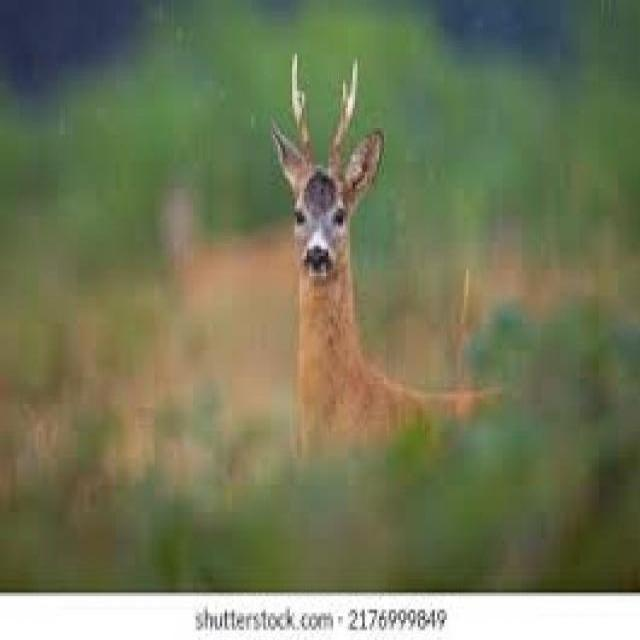deer: (253, 50, 474, 453)
